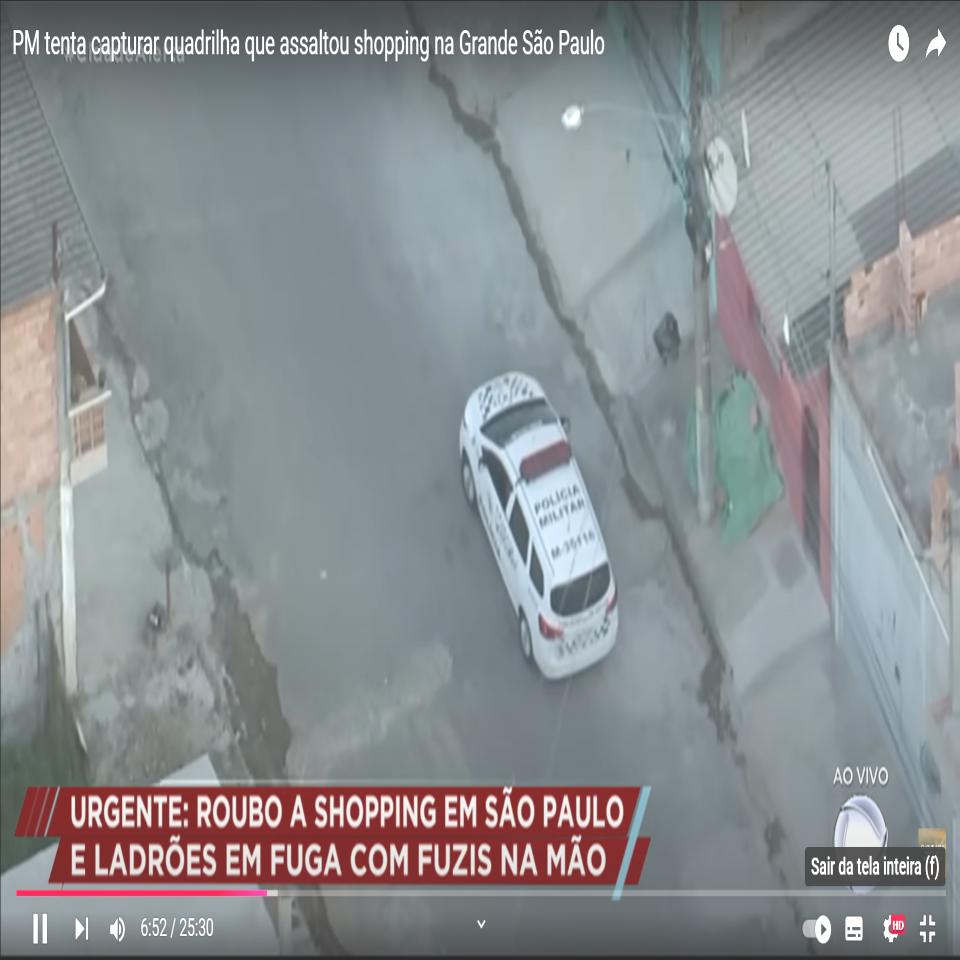viatura: (459, 368, 622, 688)
